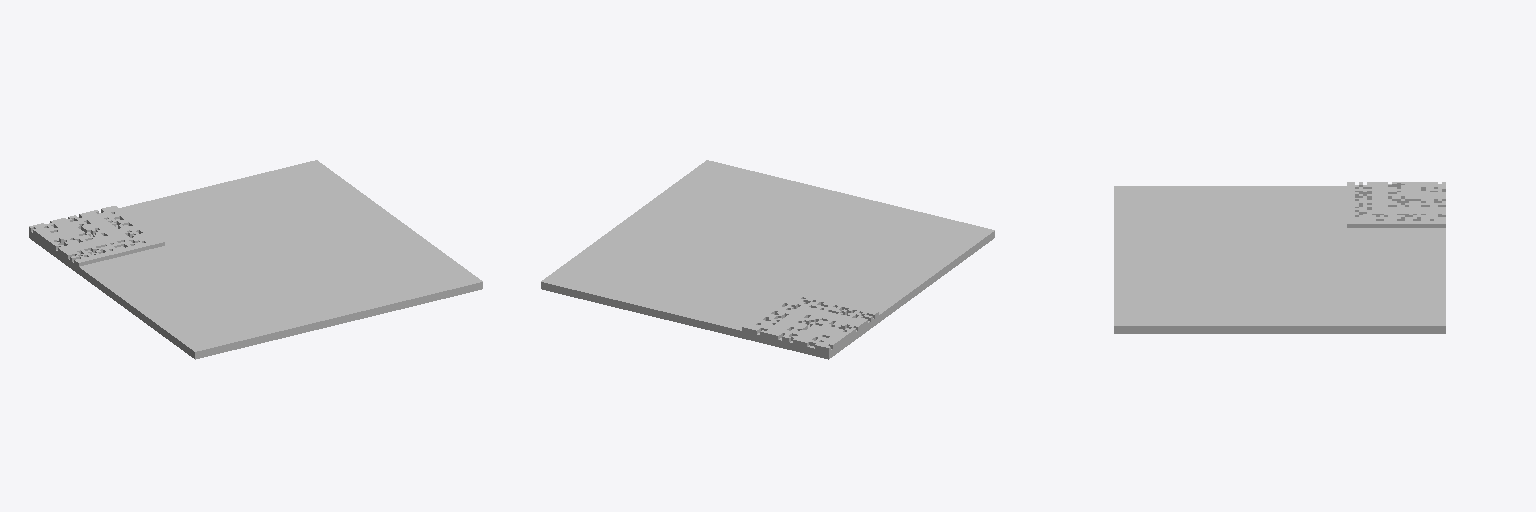
The model's file is Pathway curva.obj.
The picture shows the model from 3 angles: view 1: azimuth 30°, elevation 25°; view 2: azimuth 150°, elevation 25°; view 3: azimuth 270°, elevation 25°; orthographic projection.
Visible parts, largest first — view 1: object 1; view 2: object 1; view 3: object 1.
Boxes of the visible parts, <box> form: object 1: <box>29,160,482,359</box>; object 1: <box>541,160,994,359</box>; object 1: <box>1114,182,1445,333</box>.
Bounding box in the file's own units: 8 × 0.4 × 8.